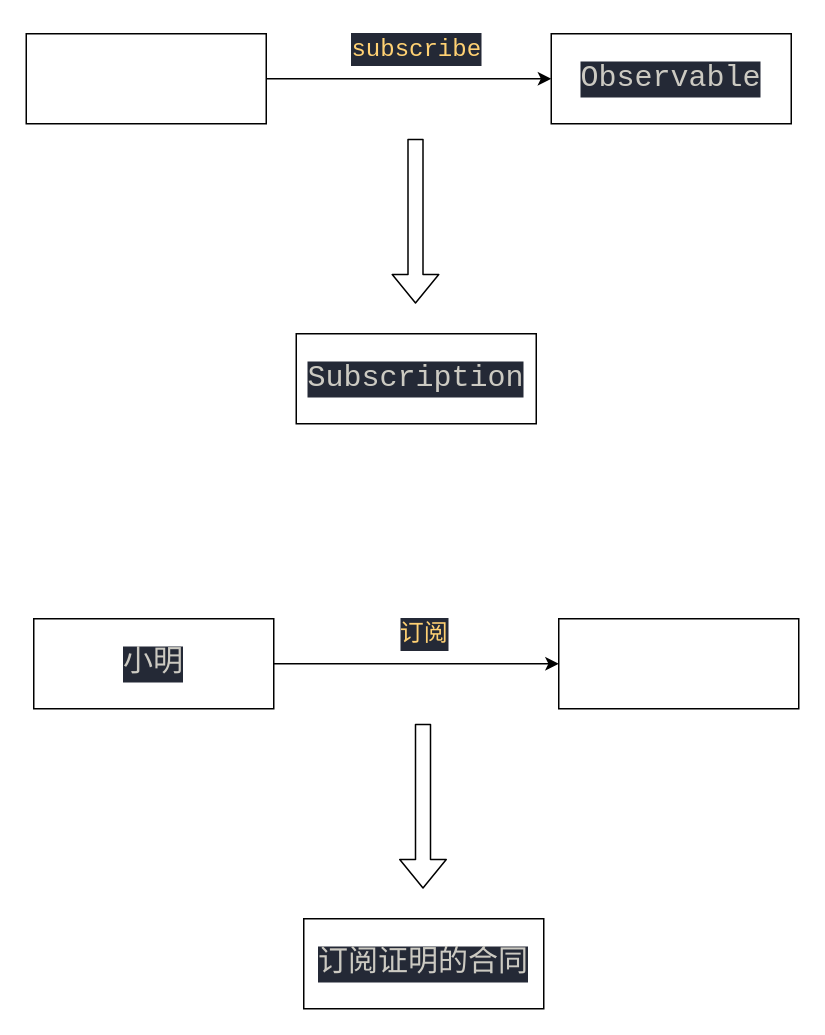
The diagram is 825 pixels wide and 1035 high, and some of its shapes have lost their labels. The box of each missing label's shape, as (x1, y1, x2, y2) in pixels:
Subscriber: (25, 32, 266, 124)
报纸期刊: (557, 617, 799, 709)
